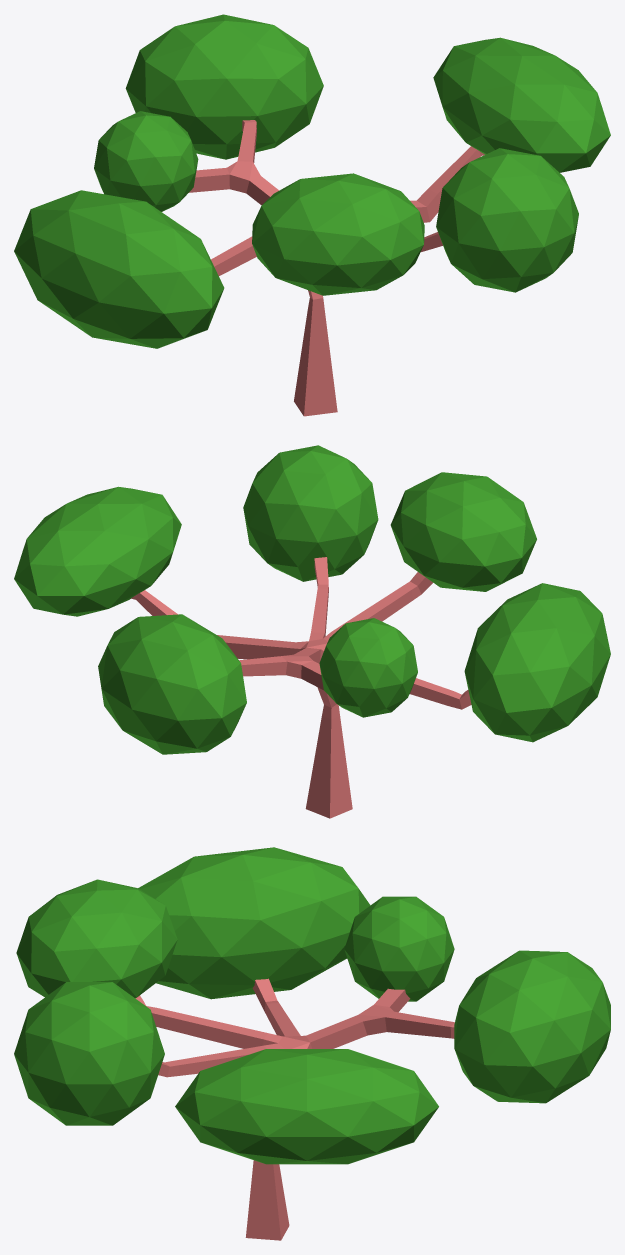
The model's file is tree.obj.
3 views of the same model, one above another, from view 1: azimuth 30°, elevation 25°; view 2: azimuth 150°, elevation 25°; view 3: azimuth 270°, elevation 25° (orthographic). The views are drawn at different scales.
Visible parts, largest first — view 1: Icosphere.005, Icosphere, Icosphere.004, Icosphere.002, Icosphere.003, Cube, Icosphere.001; view 2: Icosphere.005, Icosphere, Icosphere.002, Icosphere.003, Icosphere.004, Cube, Icosphere.001; view 3: Icosphere.005, Icosphere.002, Icosphere, Icosphere.003, Icosphere.004, Cube, Icosphere.001.
Part boxes in pixels (x1,y1,x2,y2): Icosphere.005: (14,190,224,348); Icosphere: (125,14,323,159); Icosphere.004: (252,173,424,295); Icosphere.002: (433,37,610,172); Icosphere.003: (436,148,578,292); Cube: (189,120,484,416); Icosphere.001: (94,111,198,211); Icosphere.005: (464,583,610,742); Icosphere: (98,614,246,754); Icosphere.002: (14,486,181,616); Icosphere.003: (243,445,378,581); Icosphere.004: (390,472,536,591); Cube: (131,557,471,818); Icosphere.001: (319,618,417,717); Icosphere.005: (138,847,370,999); Icosphere.002: (175,1049,438,1164); Icosphere: (454,950,610,1103); Icosphere.003: (14,982,164,1125); Icosphere.004: (16,879,177,998); Cube: (135,978,454,1240); Icosphere.001: (344,896,454,1001).
Size of the model in its own units: 17.73 by 9.1 by 15.81.
